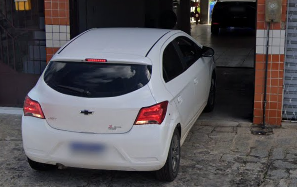car: (20, 22, 219, 181)
